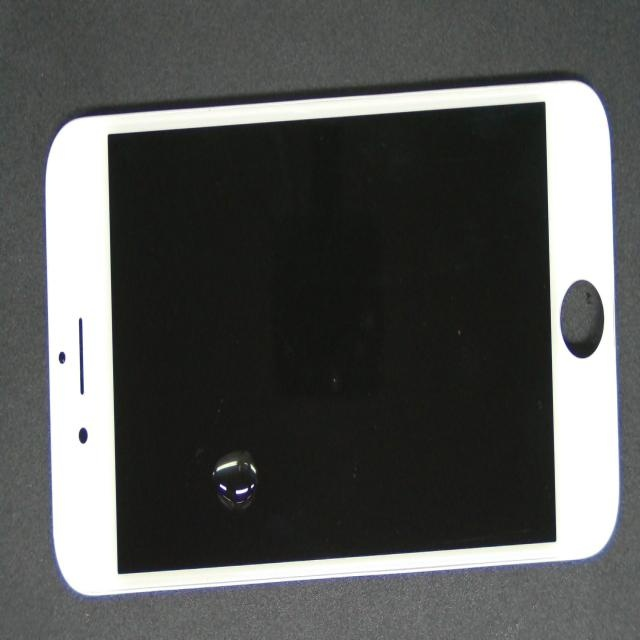oil: (137, 215, 365, 640)
